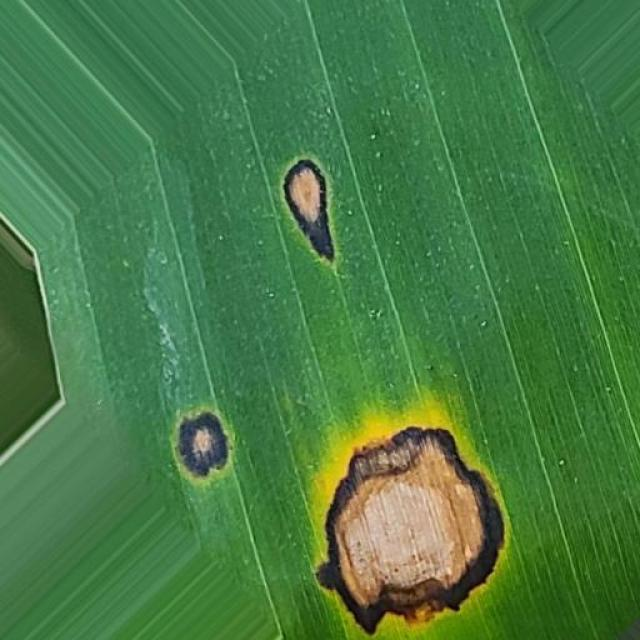Early_rust: (278, 408, 520, 640), (257, 123, 369, 301), (146, 395, 231, 498)
